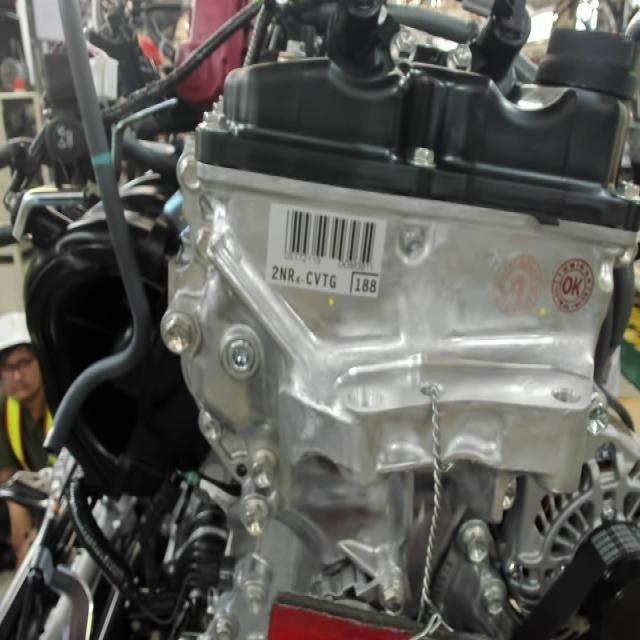Engine Assy-188: (347, 264, 381, 302)
Hose Canister-HJ: (88, 143, 116, 174)
